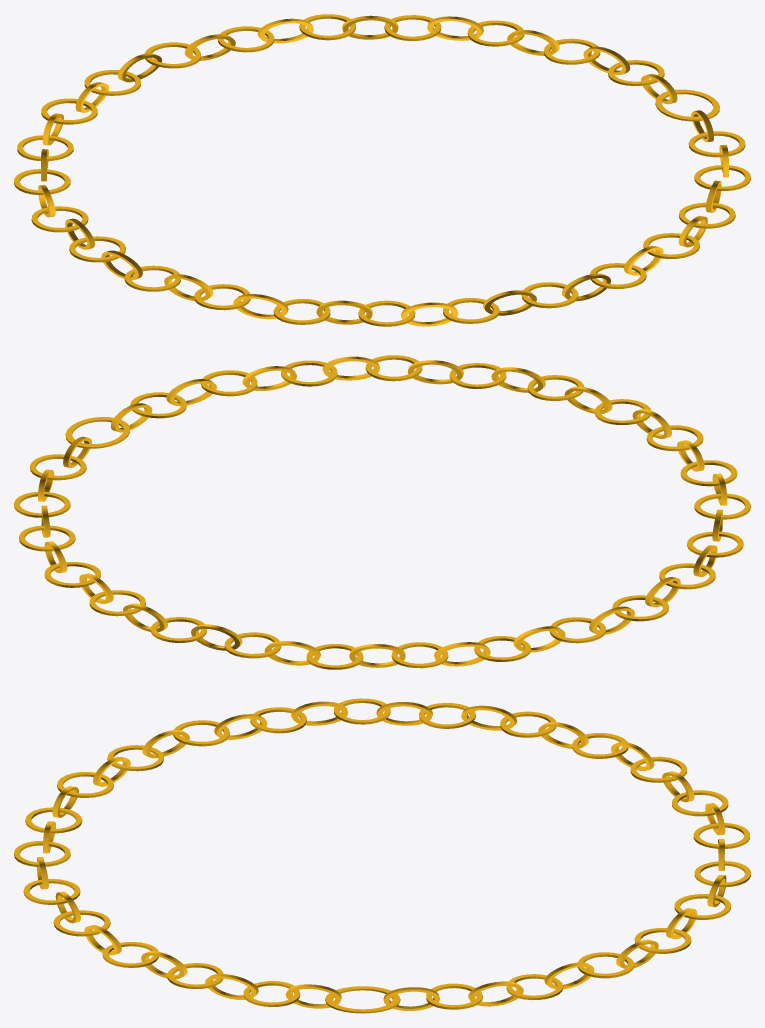
Rendered from Necklace_AG.FBX.
The picture shows the model from 3 angles, top to bottom: view 1: azimuth 30°, elevation 25°; view 2: azimuth 150°, elevation 25°; view 3: azimuth 270°, elevation 25°; orthographic projection.
Visible parts, largest first — view 1: Necklace; view 2: Necklace; view 3: Necklace.
Part boxes in pixels (x1,y1,x2,y2): Necklace: [14, 14, 750, 326]; Necklace: [14, 355, 750, 669]; Necklace: [14, 698, 750, 1013].
Size of the model in its own units: 13.03 by 0.4182 by 12.97.
